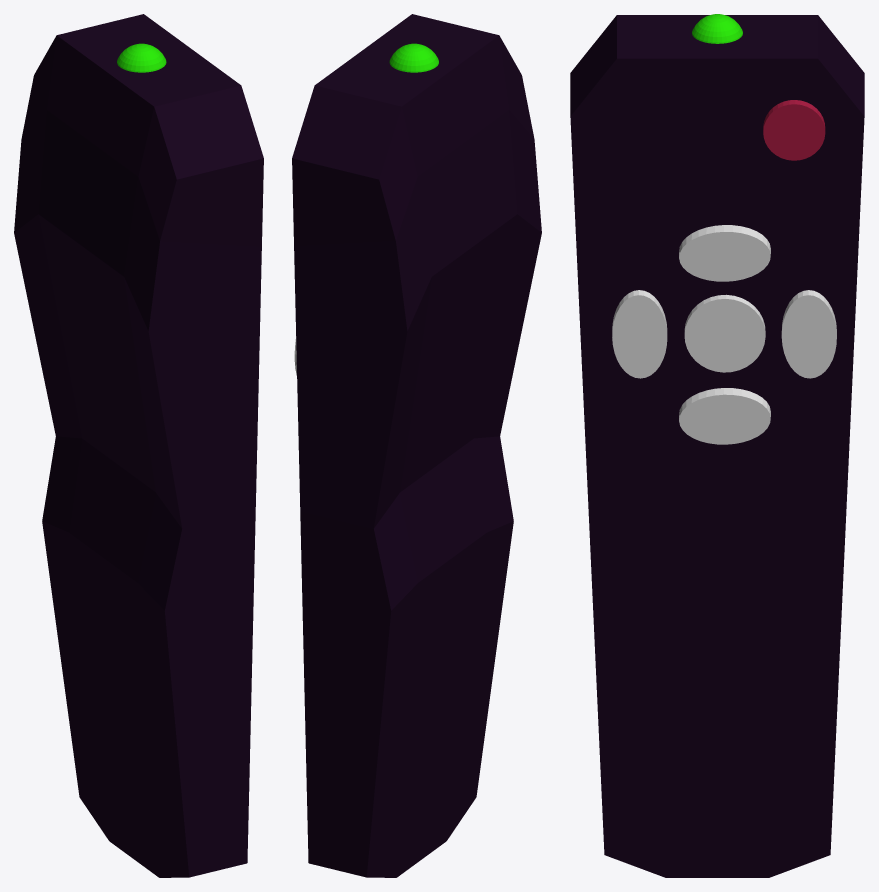
File: remote.fbx
3 renders of one model, left to right at view 1: azimuth 30°, elevation 25°; view 2: azimuth 150°, elevation 25°; view 3: azimuth 270°, elevation 25°, orthographic. The views are drawn at different scales.
Visible parts, largest first — view 1: remote, Sphere; view 2: remote, Sphere; view 3: remote, Cylinder.001, Cylinder.005, Cylinder.004, Cylinder.002, Cylinder.003, Cylinder, Sphere.
Part boxes in pixels (x1=…): remote: x1=14, y1=14, x2=263, y2=877; Sphere: x1=117, y1=43, x2=166, y2=72; remote: x1=292, y1=14, x2=541, y2=877; Sphere: x1=389, y1=43, x2=438, y2=72; remote: x1=570, y1=15, x2=864, y2=877; Cylinder.001: x1=684, y1=294, x2=765, y2=372; Cylinder.005: x1=679, y1=225, x2=770, y2=281; Cylinder.004: x1=679, y1=388, x2=770, y2=444; Cylinder.002: x1=781, y1=290, x2=836, y2=378; Cylinder.003: x1=612, y1=290, x2=667, y2=378; Cylinder: x1=763, y1=100, x2=825, y2=160; Sphere: x1=692, y1=14, x2=742, y2=43.
Size of the model in its own units: 144 by 893 by 285.
